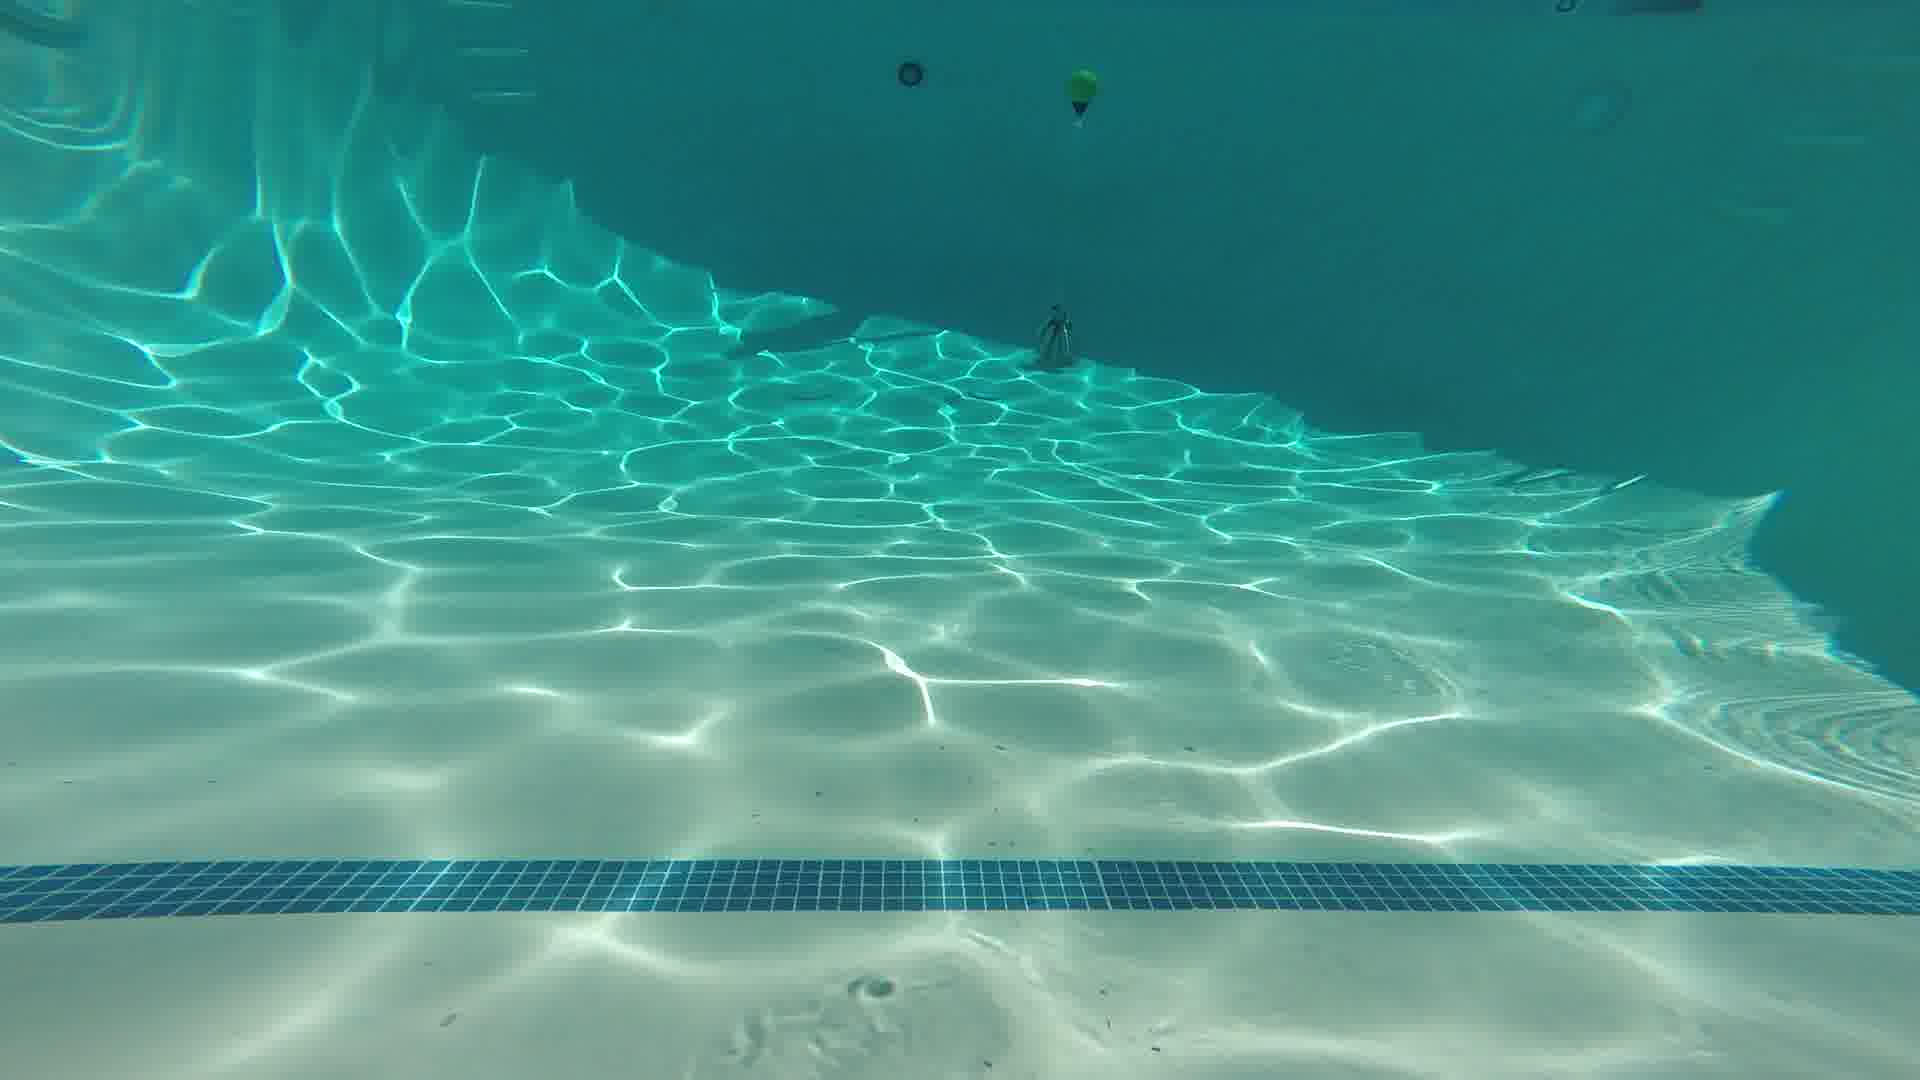yellow buoy: (1064, 61, 1104, 137)
